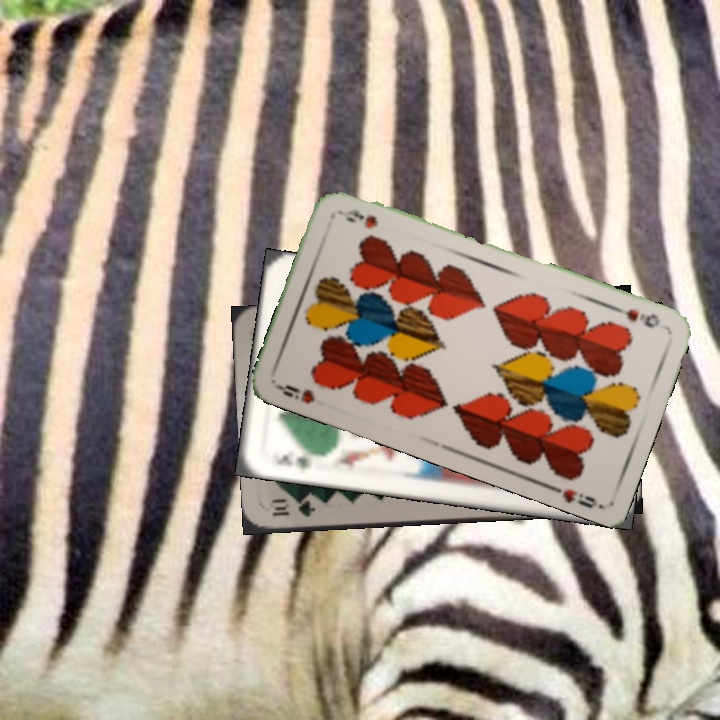G10: (268, 496, 318, 520)
GK: (268, 448, 315, 473)
H9: (610, 303, 663, 331), (273, 380, 317, 407)
